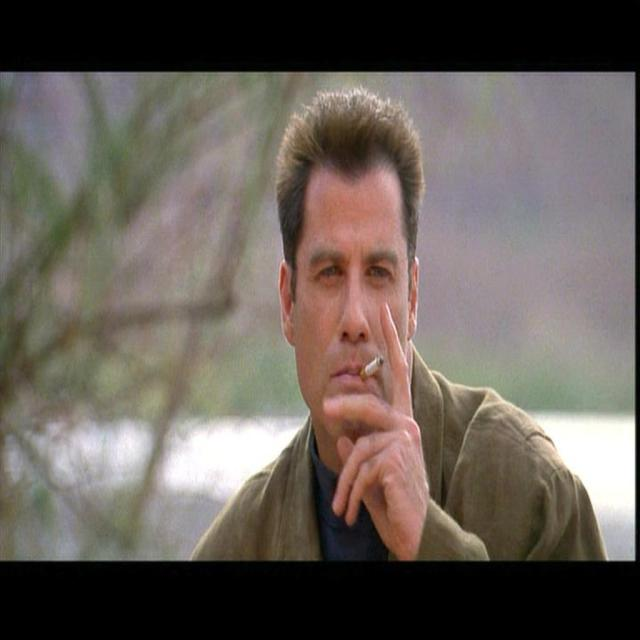smoking: (278, 82, 432, 556)
